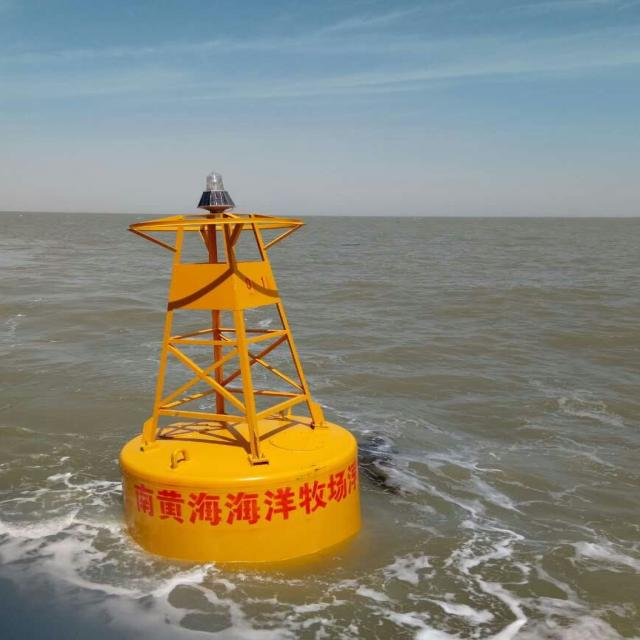buoy: (104, 174, 372, 562)
